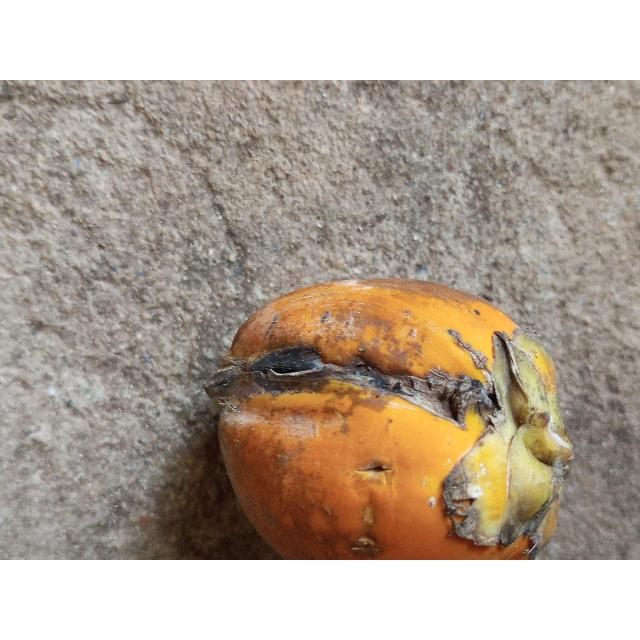damaged: (201, 279, 574, 560)
